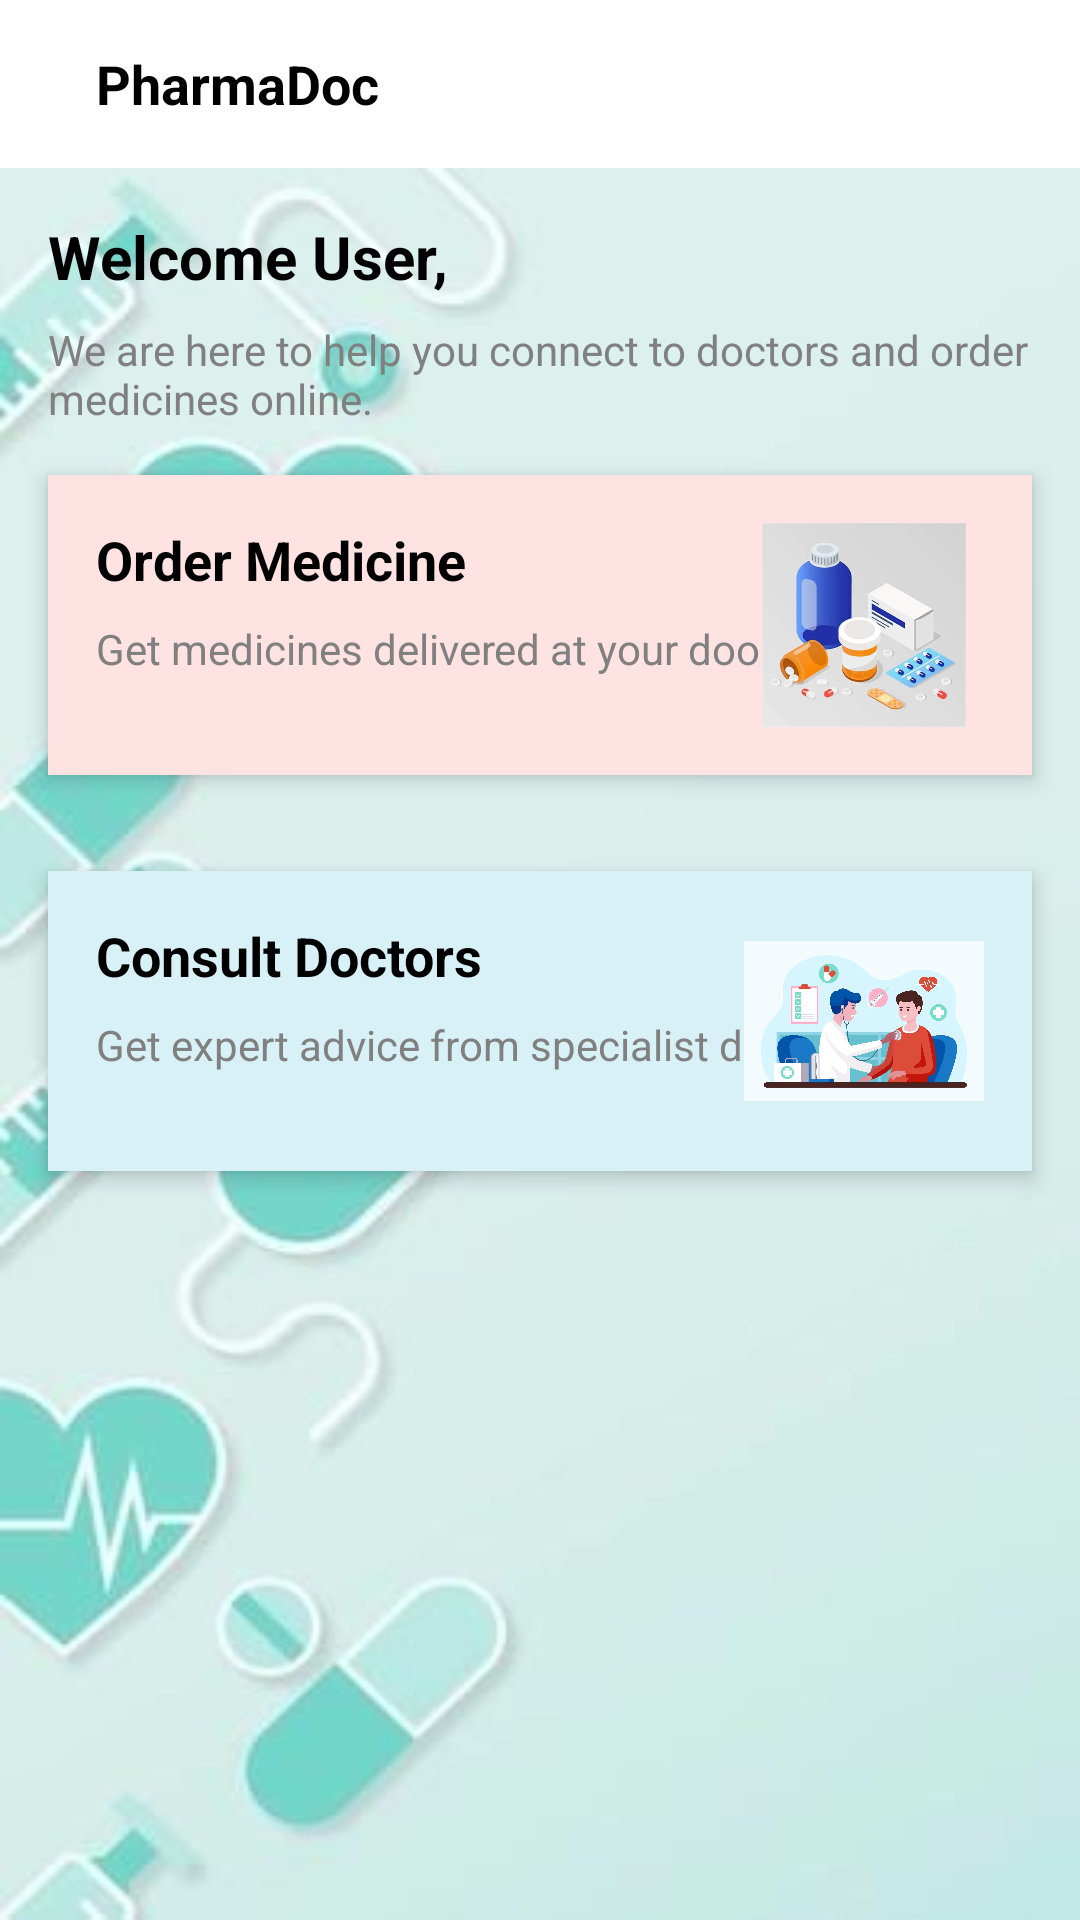

Locate icon controls on the screen. Image size 1080px x 1920px, boxes as (x1, y1, x2, y2).
medc: (762, 523, 966, 727)
